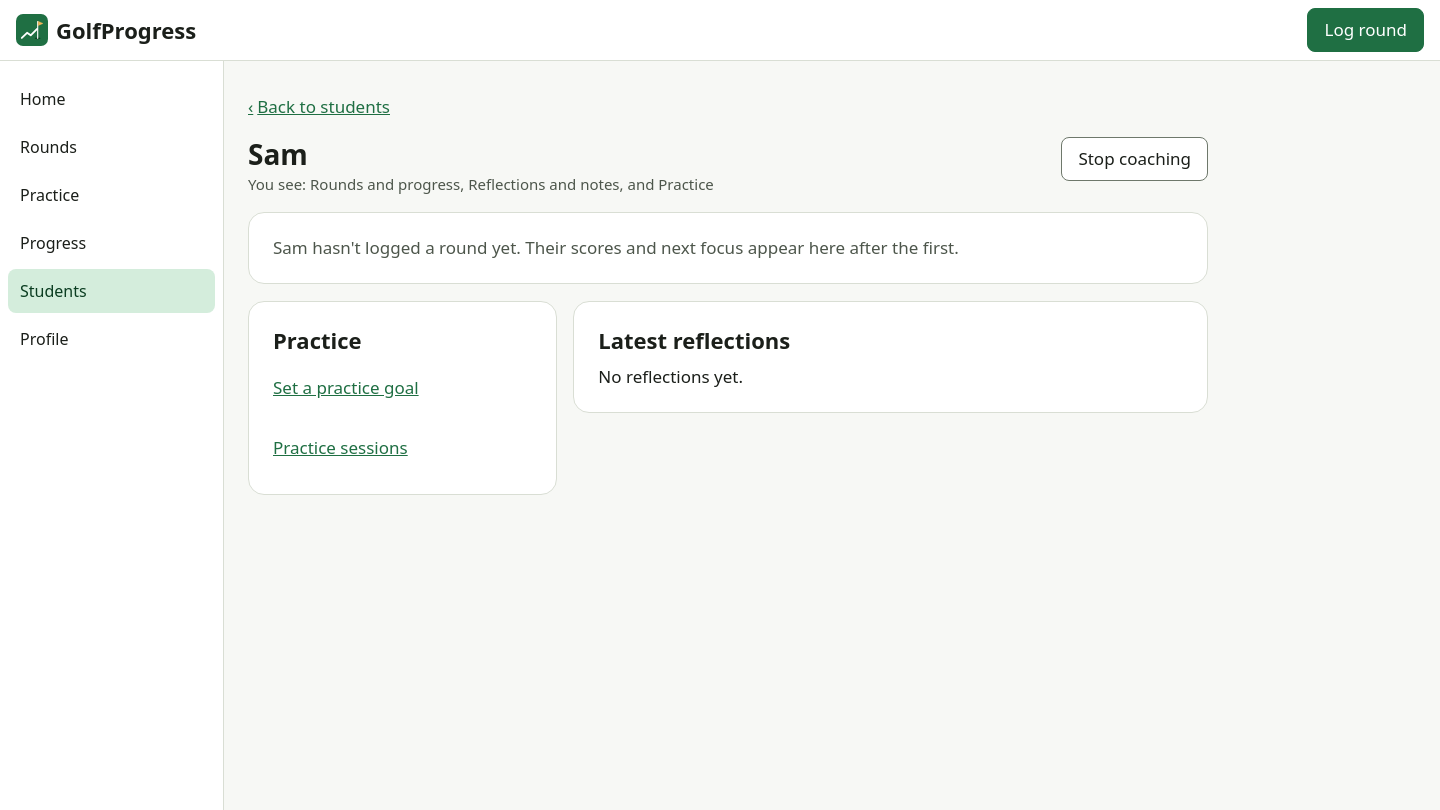
Test: a coach's practice goals (#227) › sets a goal from the overview, after checking it, and lands on it
Click the link "Set a practice goal" at (346, 388), box left=273, top=376, right=419, bottom=399
(page scrolled)
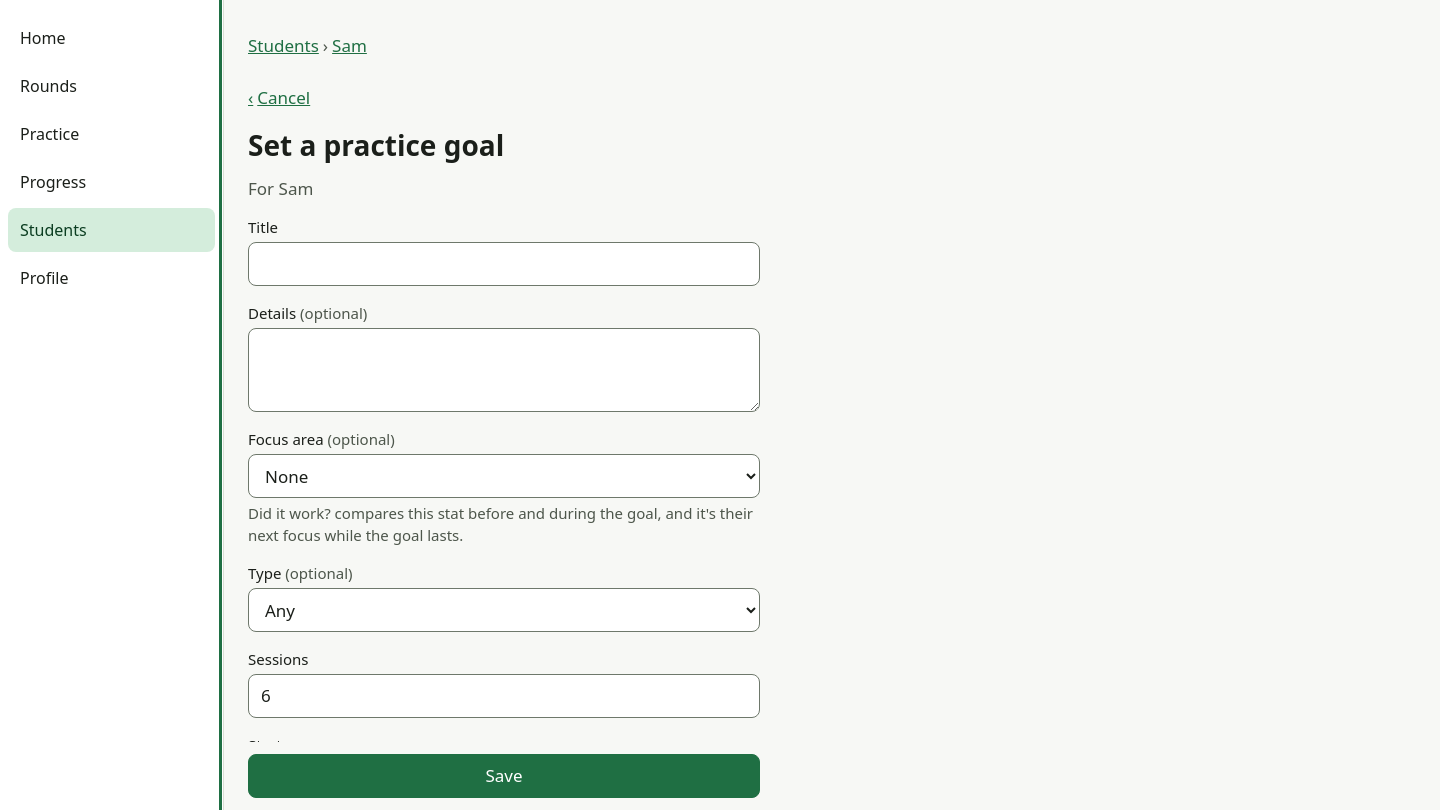
Expected: the heading "Set a practice goal" is shown, left=248, top=126, right=504, bottom=164
Expected: the text "For Sam" is shown, left=248, top=177, right=313, bottom=200
Click the button "Save" at (504, 776), box left=248, top=754, right=760, bottom=798
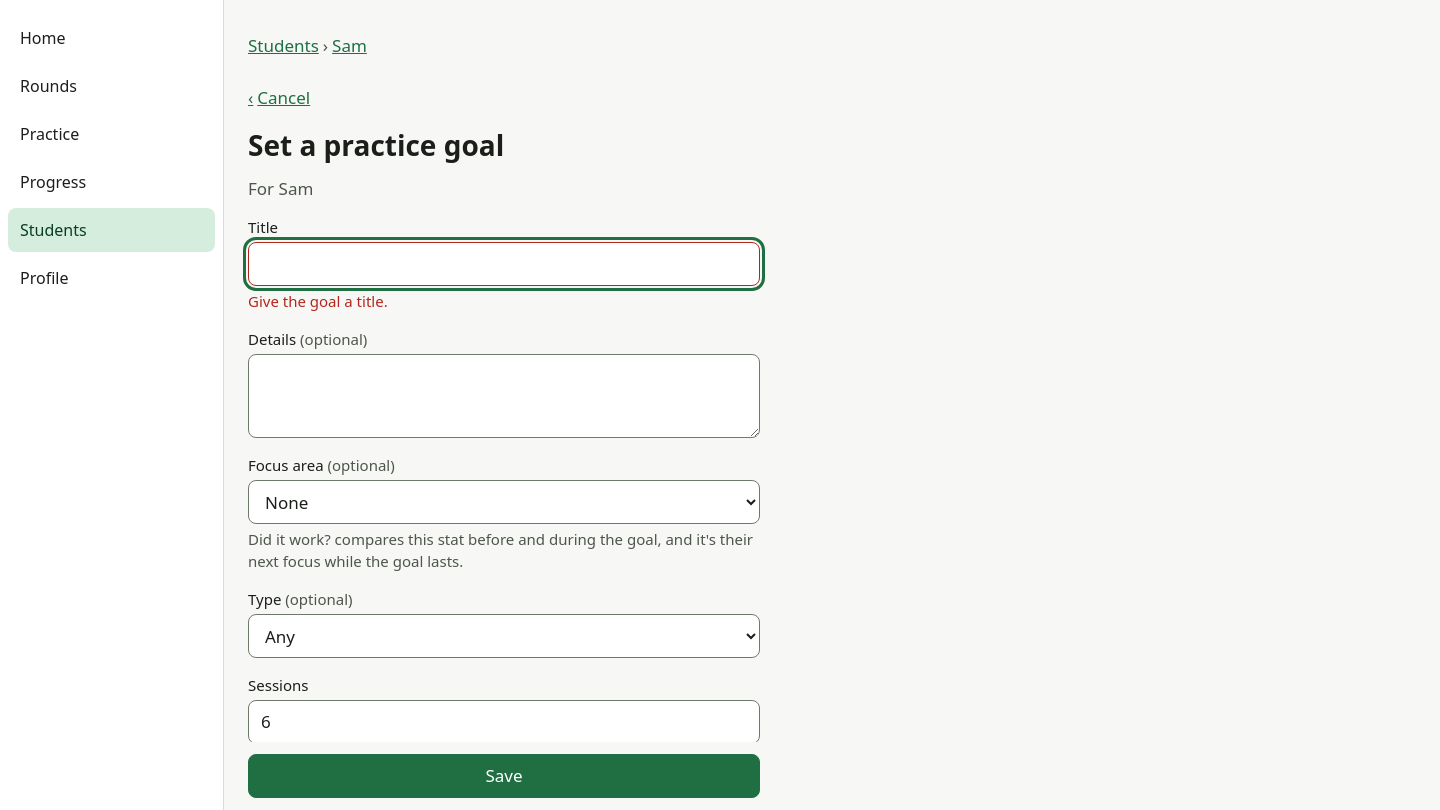
Expected: the text "Give the goal a title." is shown, left=248, top=291, right=388, bottom=311
Type "Lag putts" into the field labelled "Title" at (504, 264), box left=248, top=242, right=760, bottom=286
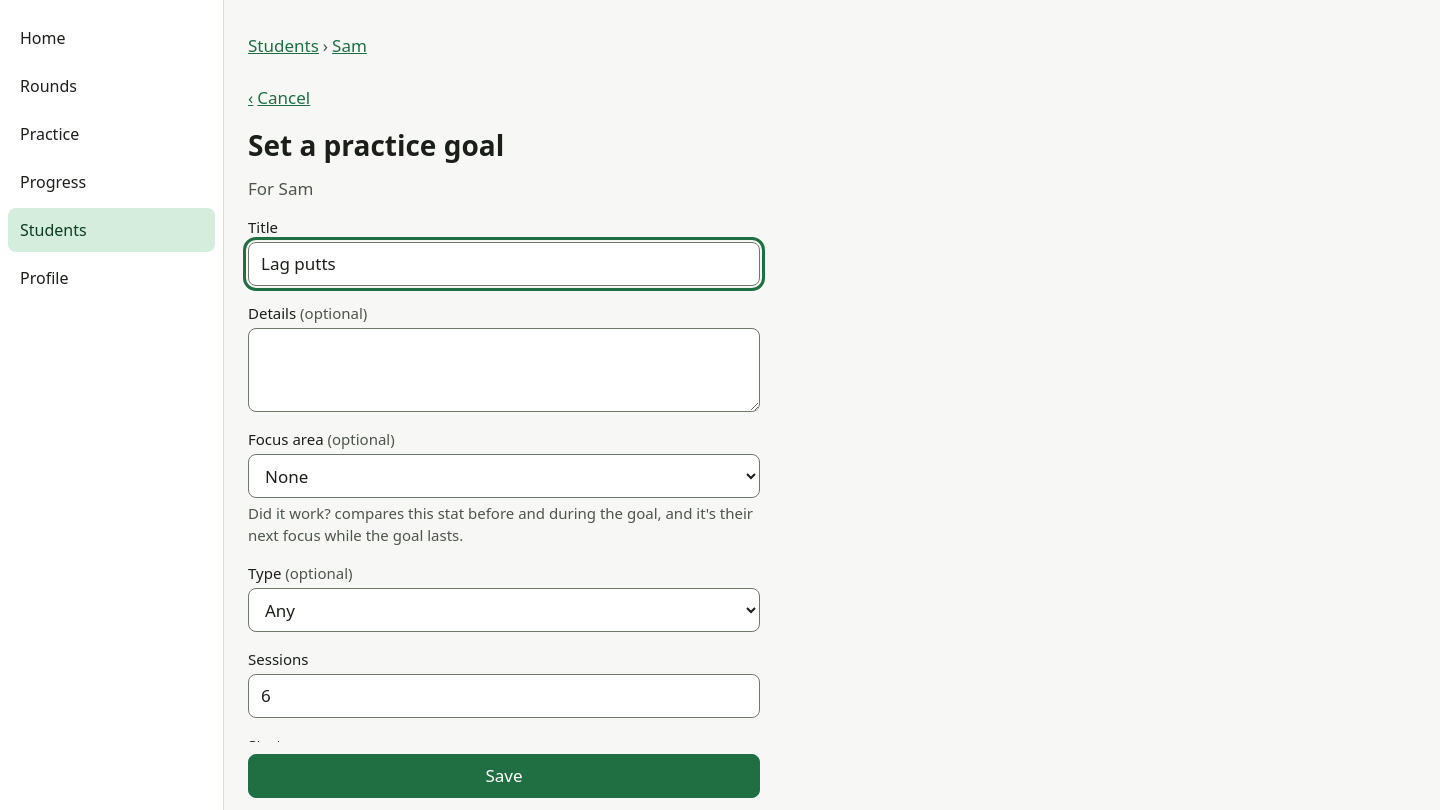
Select "Putting" in the dropdown labelled "Focus area (optional)" at (504, 476), box left=248, top=454, right=760, bottom=498
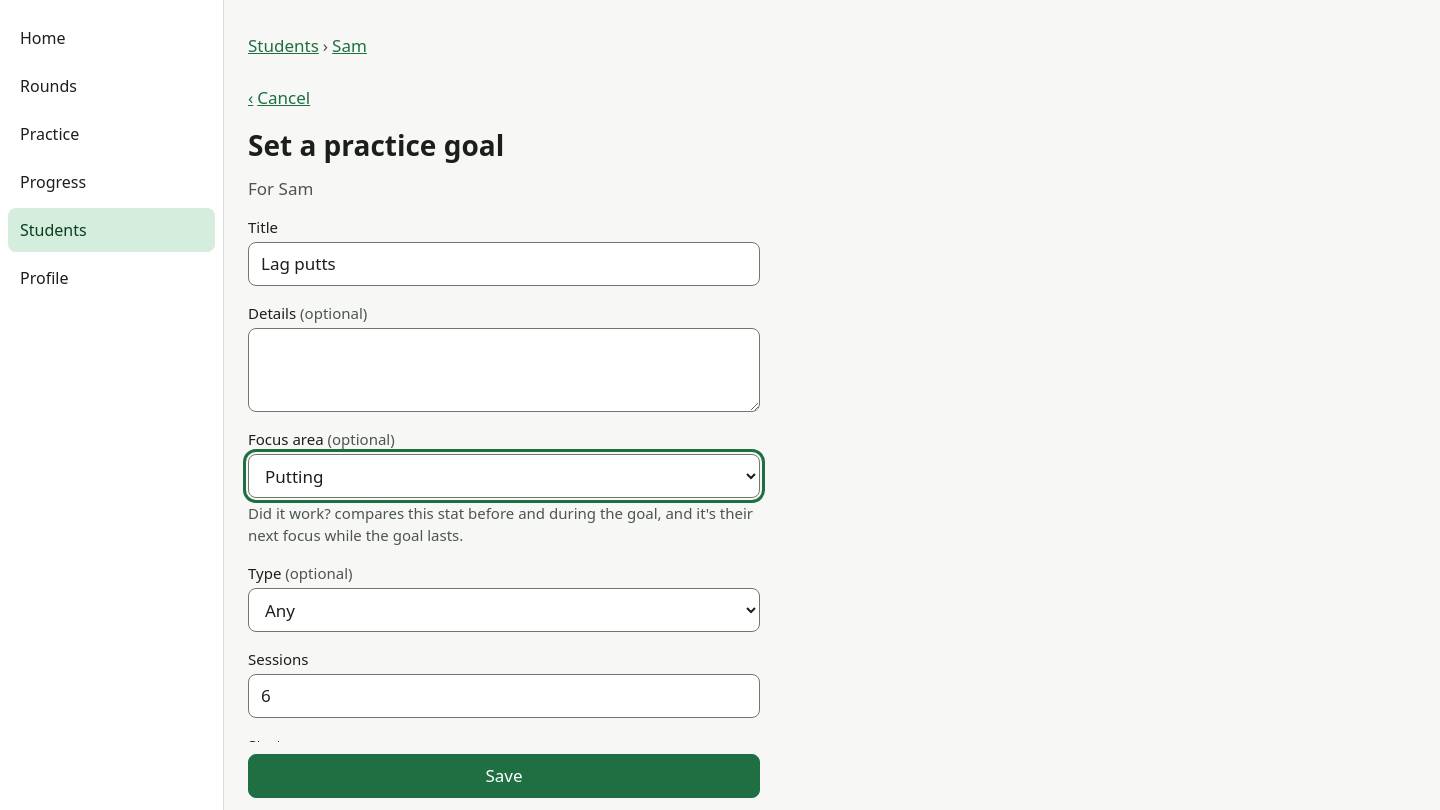
Click the button "Save" at (504, 776), box left=248, top=754, right=760, bottom=798
(page scrolled)
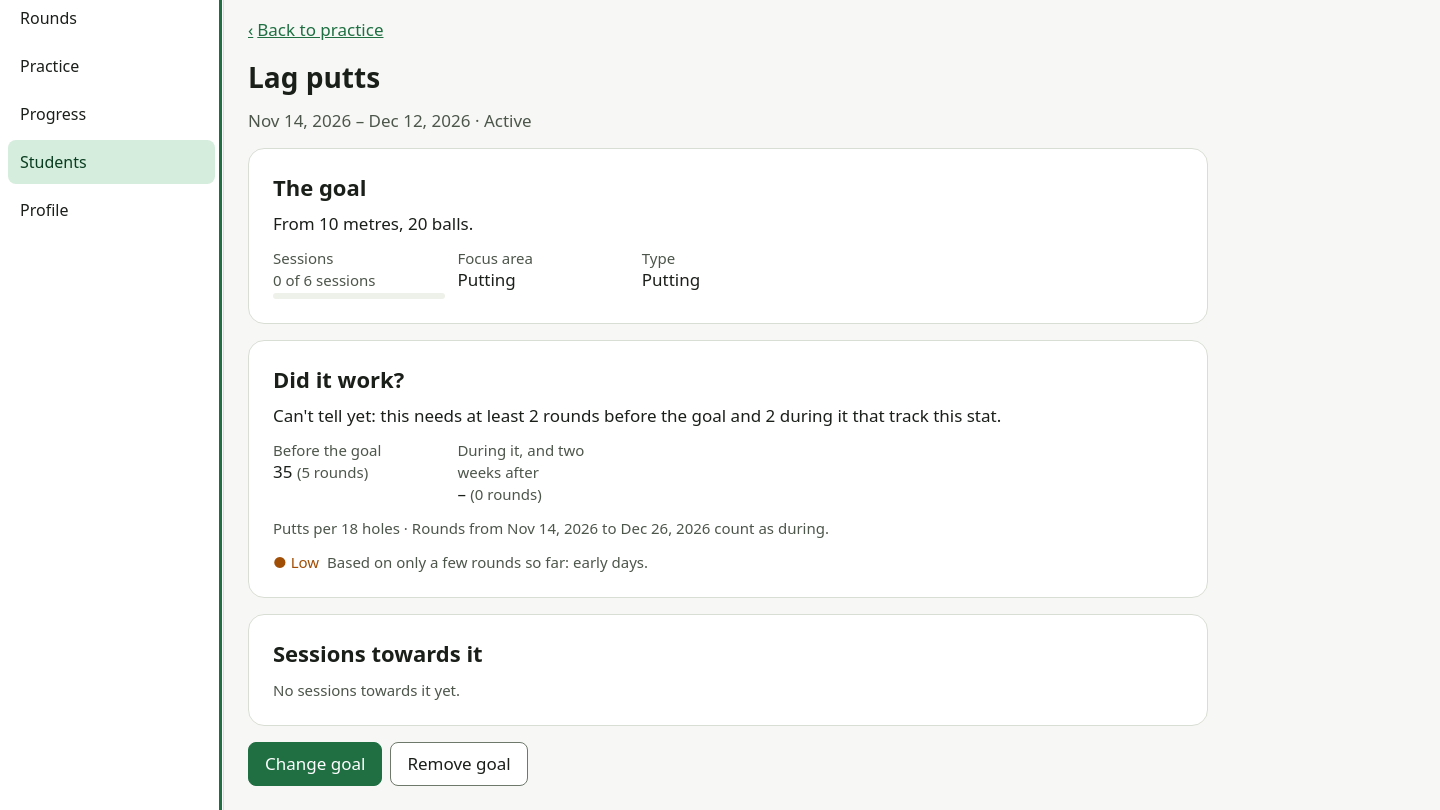
Expected: the heading "Lag putts" is shown, left=248, top=58, right=380, bottom=96
Expected: the link "Change goal" is shown, left=248, top=742, right=382, bottom=786
